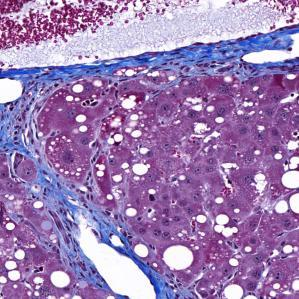fibrosis: (102, 34, 241, 88), (2, 113, 67, 208), (50, 223, 139, 270)
